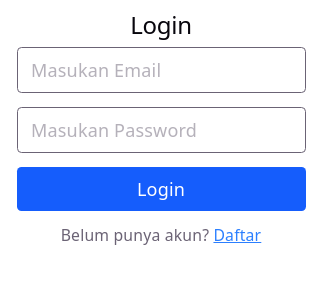
Login › menampilkan errror kalau password kurang dari 6 karakter
Type "wowok@gmail.com" into the field with placeholder "Masukan Email".
click(161, 70); type("wowok@gmail.com")  # box [16, 47, 306, 93]
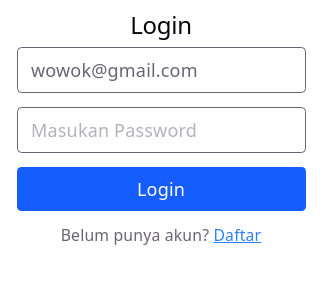
Type "123" into the password field with placeholder "Masukan Password".
click(161, 130); type("123")  # box [16, 107, 306, 153]
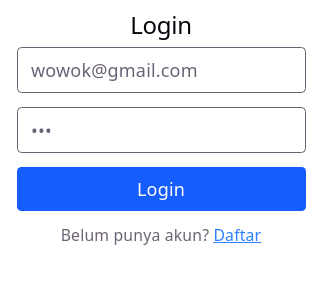
Submit the form, box [16, 47, 306, 247]
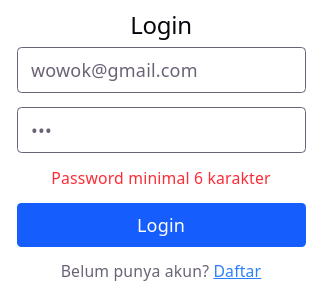
Result: the text "Password minimal 6 karakter" is shown at [51, 166, 271, 188]
